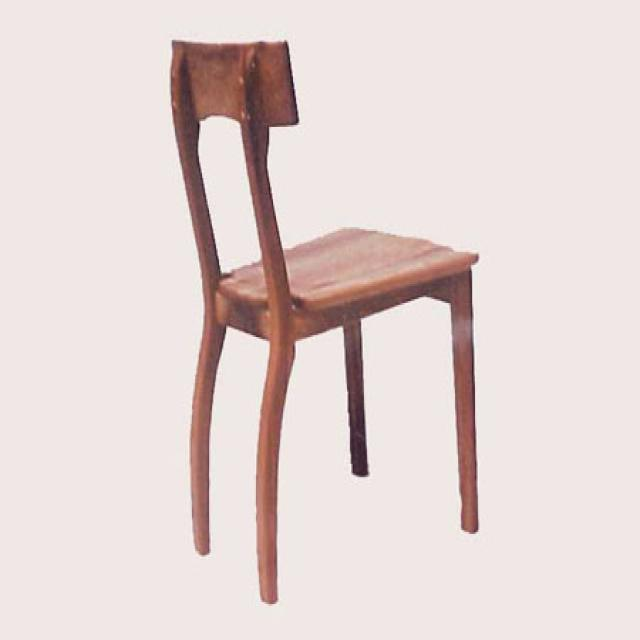chair: (168, 36, 479, 604)
